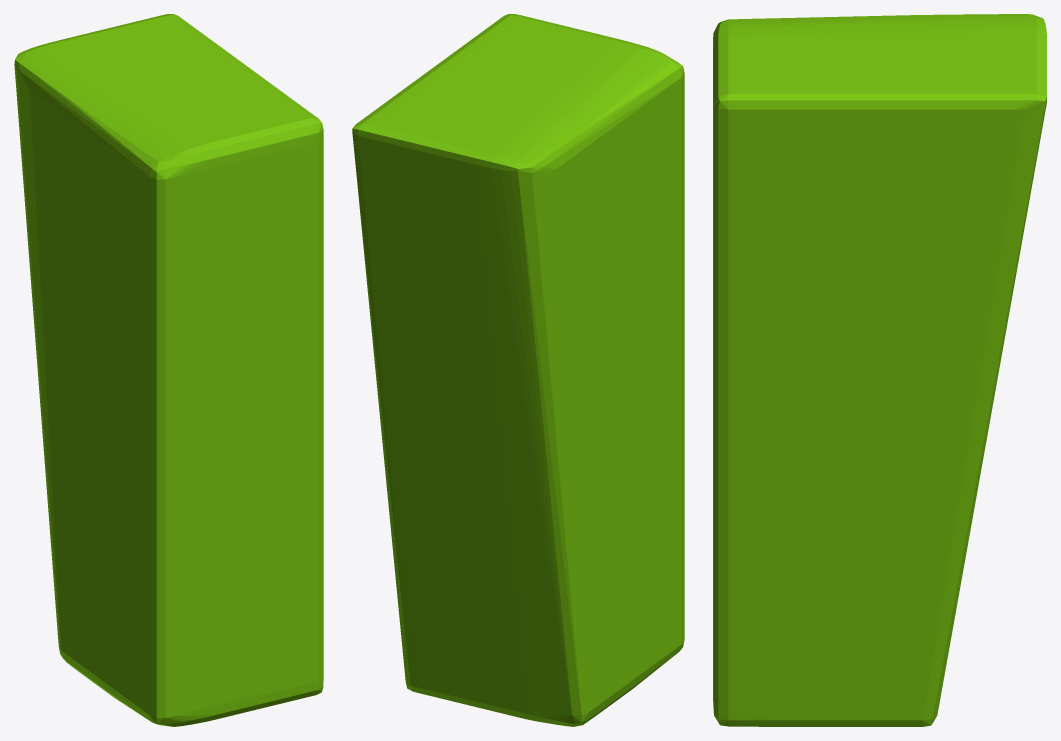
File: left_f_distal_pst_part_4.obj
The picture shows the model from 3 angles, left to right: view 1: azimuth 30°, elevation 25°; view 2: azimuth 150°, elevation 25°; view 3: azimuth 270°, elevation 25°; orthographic projection. The views are drawn at different scales.
Bounding box in the file's own units: 4.55 × 14.6 × 6.99.
